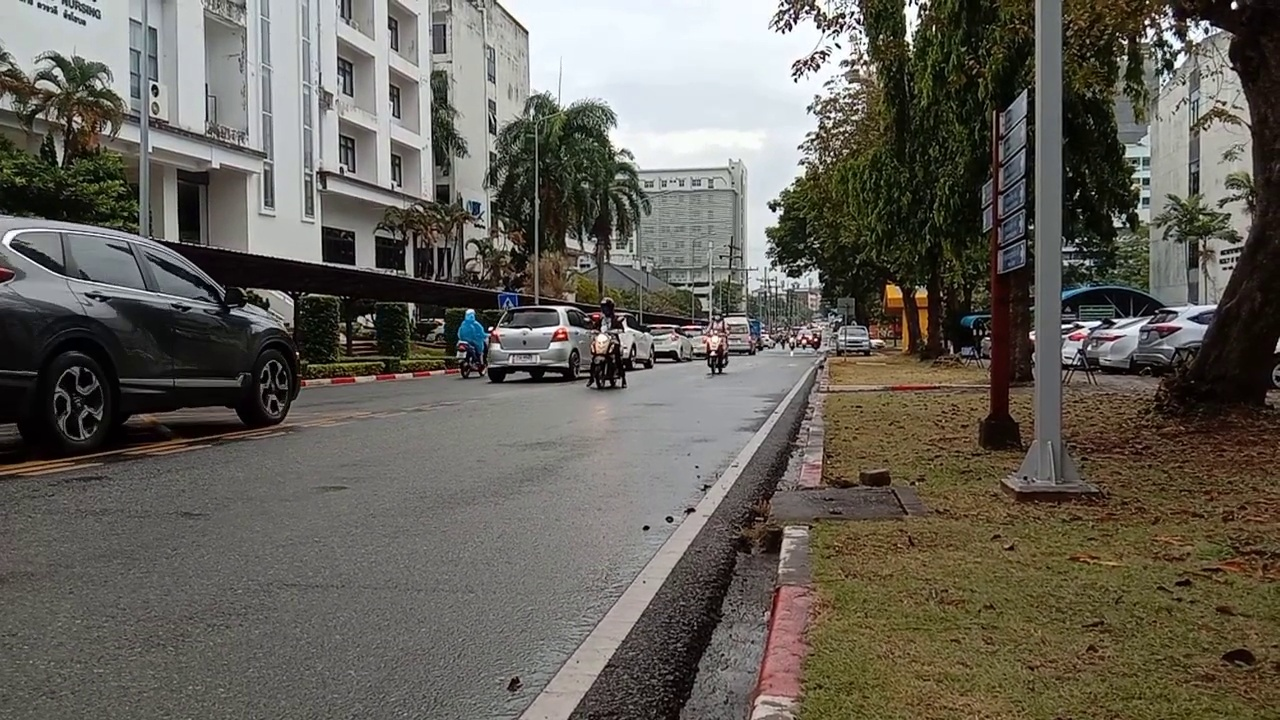License Plate: (510, 351, 537, 364)
